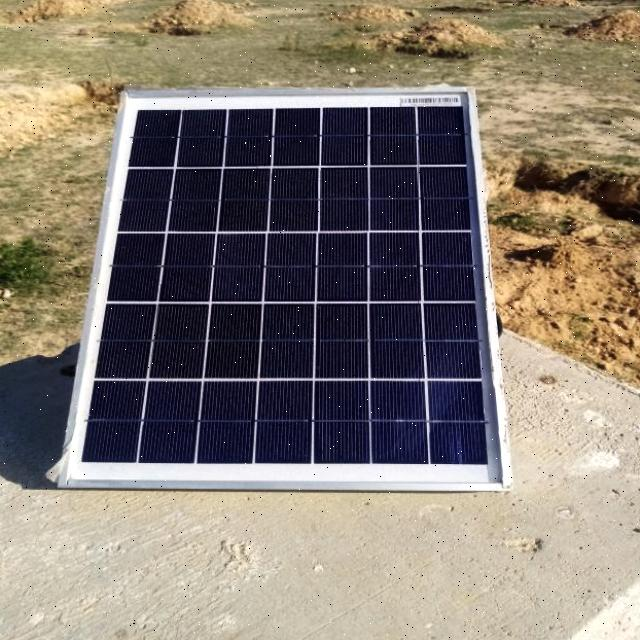Normal Solar Panel: (67, 91, 503, 488)
